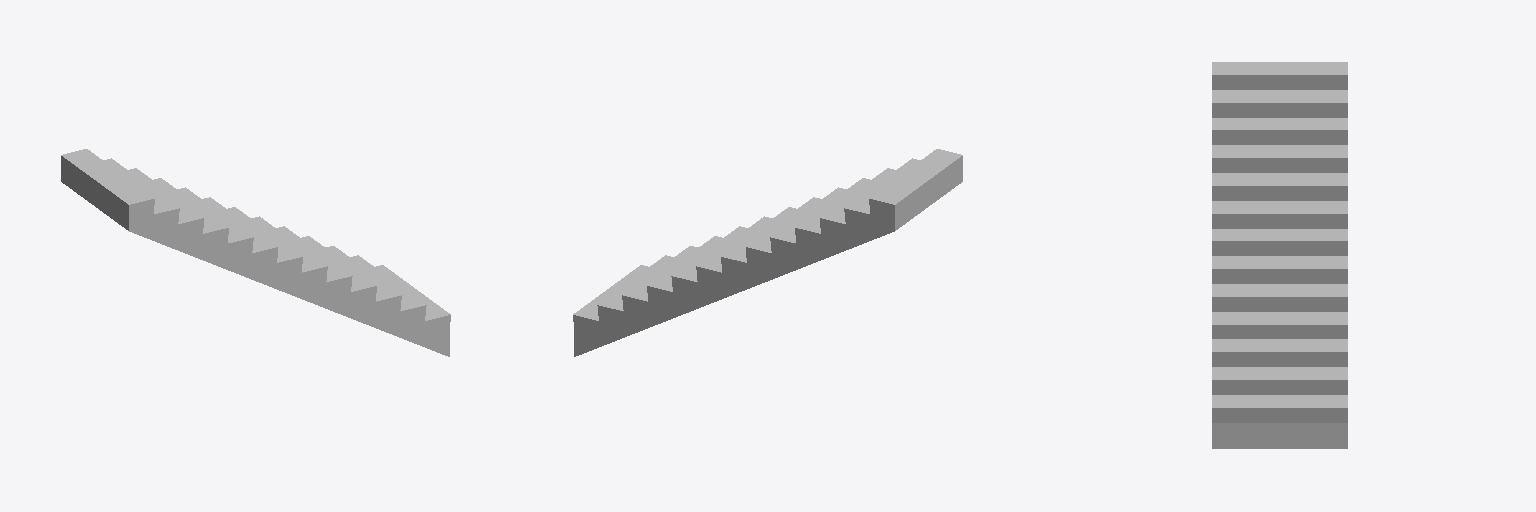
The model's file is Staircase_Hite.obj.
3 views of the same model, side by side, from view 1: azimuth 30°, elevation 25°; view 2: azimuth 150°, elevation 25°; view 3: azimuth 270°, elevation 25° (orthographic).
Visible parts, largest first — view 1: Staircase; view 2: Staircase; view 3: Staircase.
Part boxes in pixels (bbox=[...]): Staircase: bbox=[61, 149, 450, 356]; Staircase: bbox=[573, 149, 962, 356]; Staircase: bbox=[1212, 62, 1347, 448].
Bounding box in the file's own units: 296 × 202 × 108.